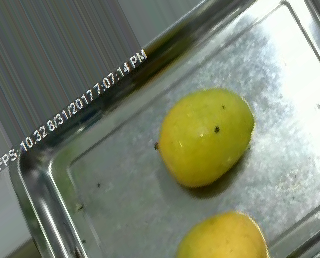Mango: (157, 86, 252, 190), (169, 205, 274, 256)
